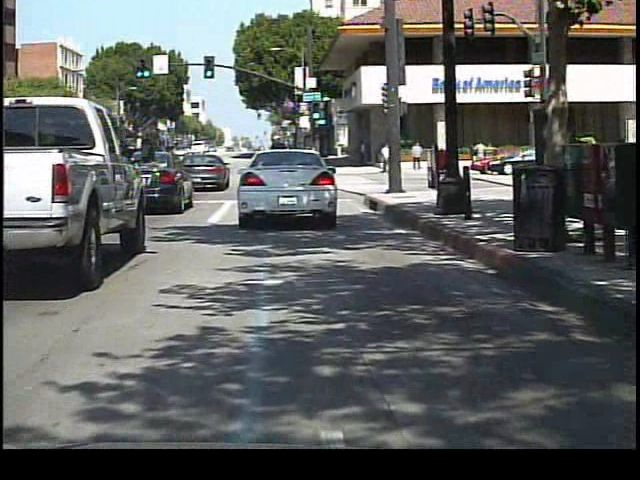person: (470, 137, 490, 172), (409, 140, 426, 173), (379, 140, 394, 175)
